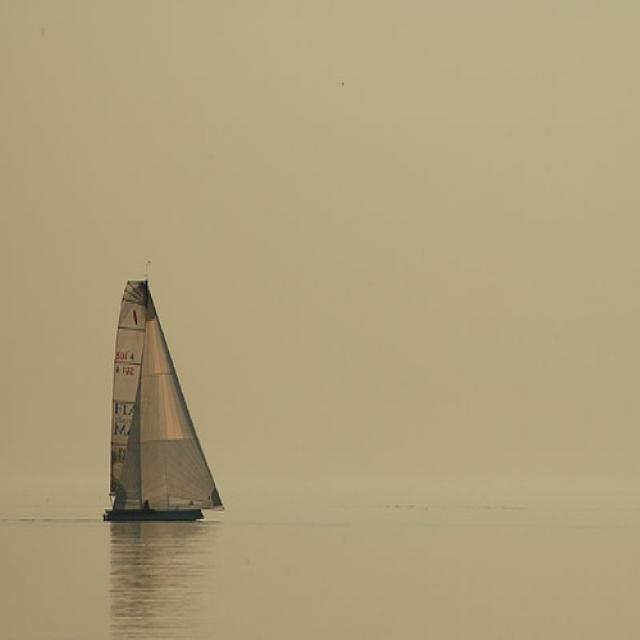Ship: (104, 276, 219, 522)
